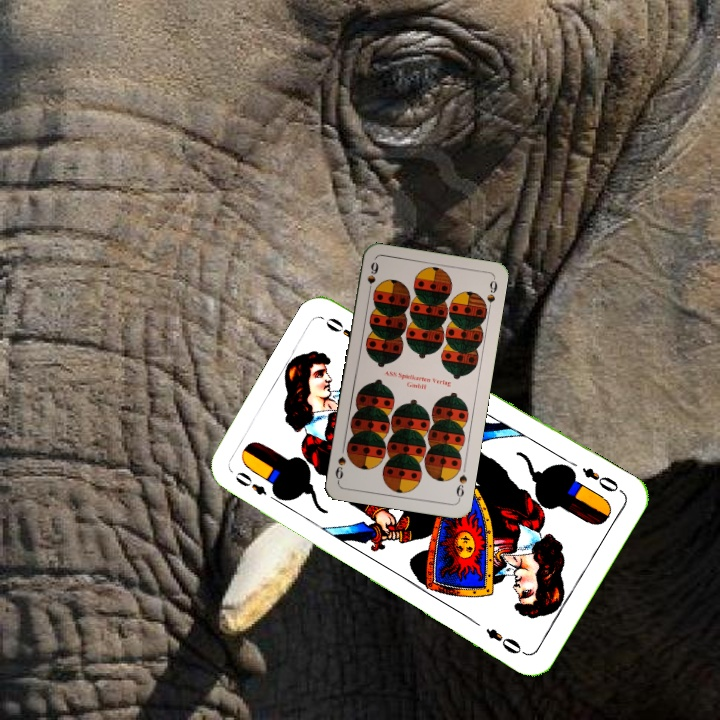EO: (231, 467, 283, 506), (578, 463, 626, 496)
S9: (363, 258, 381, 298), (452, 471, 470, 503)
